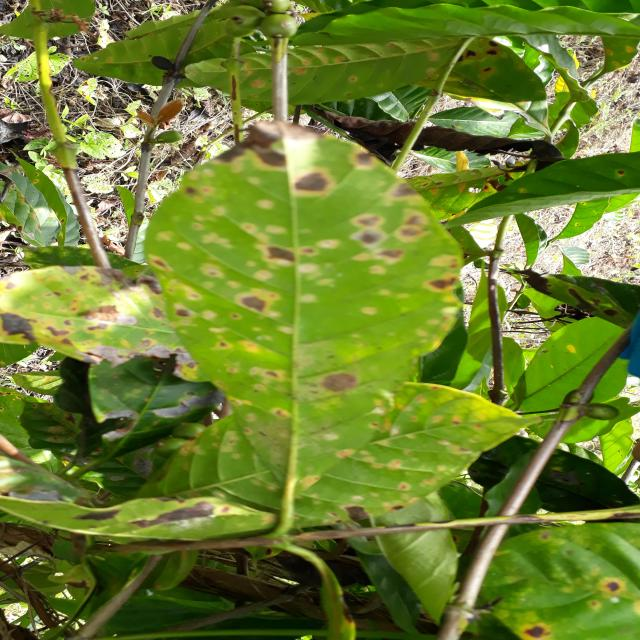Enfermedad-Roya: (146, 121, 464, 518)
